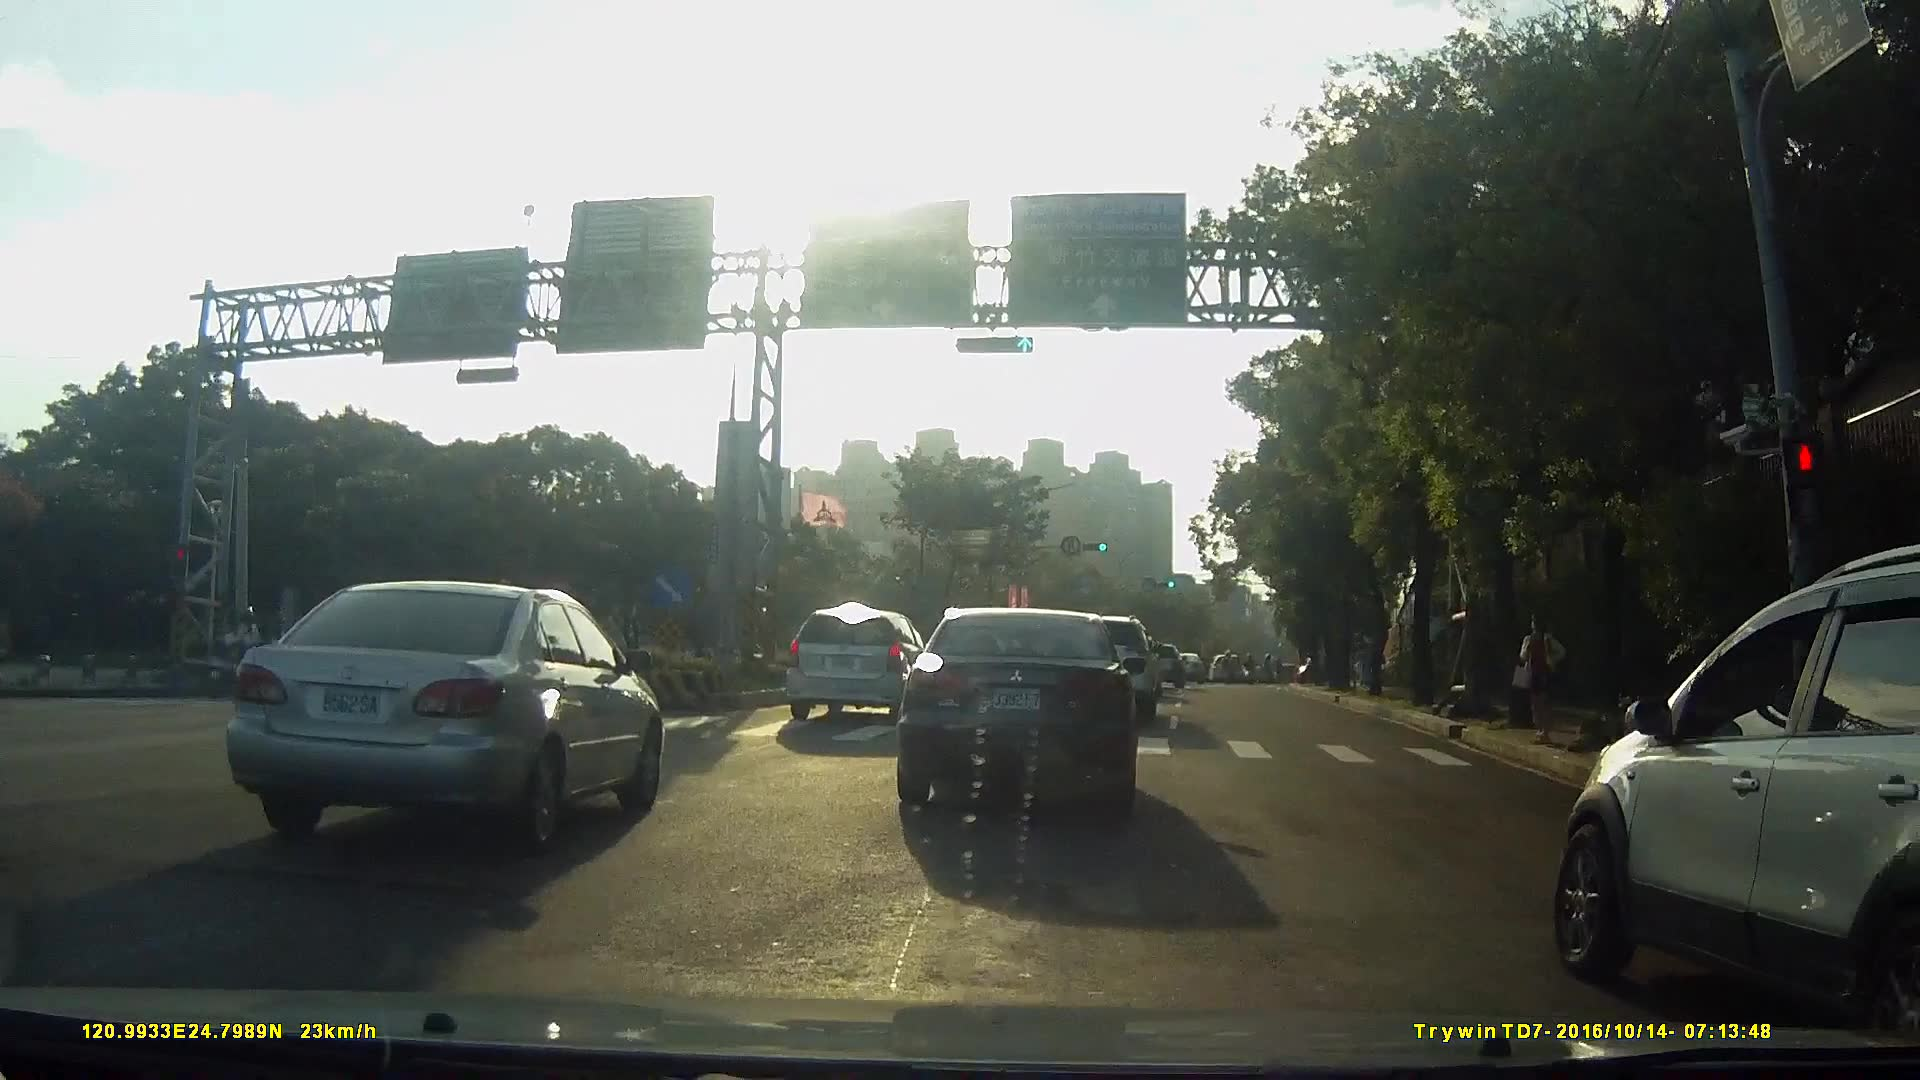pedestrian: (1510, 607, 1570, 745)
rider: (206, 603, 270, 701)
vehicle: (1510, 543, 1920, 1056), (207, 572, 680, 850), (878, 602, 1151, 815), (773, 600, 923, 719), (1128, 640, 1178, 687), (1197, 649, 1236, 680), (1163, 648, 1196, 678)
